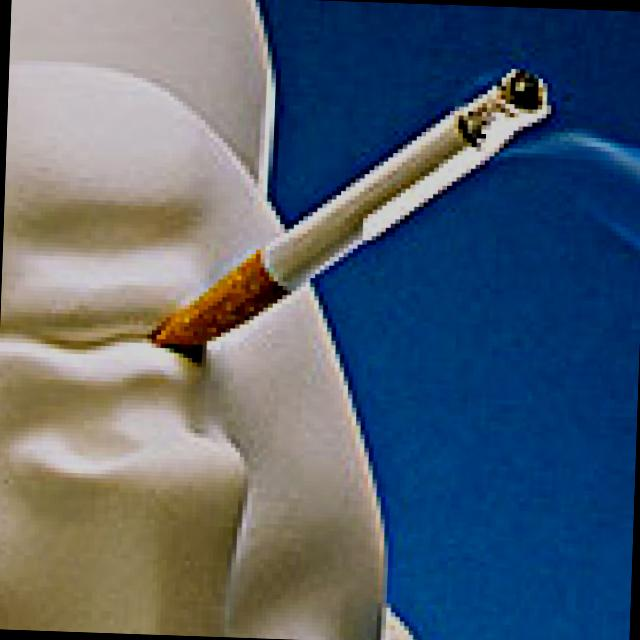smoke: (168, 52, 554, 366)
